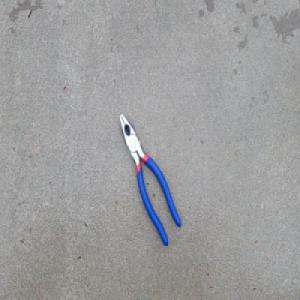Pliers: (118, 111, 182, 248)
